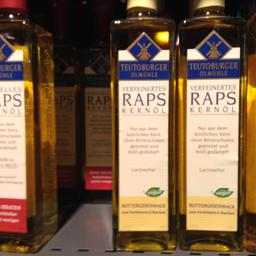oil: (178, 0, 247, 253), (109, 0, 176, 253), (0, 0, 57, 254)
